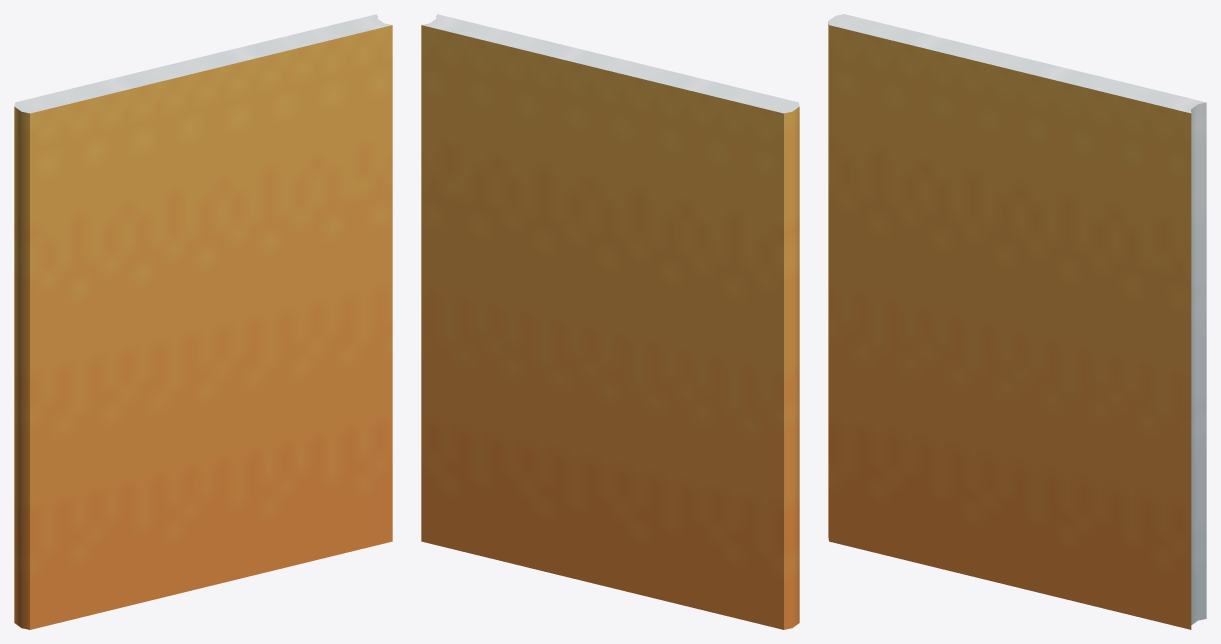
The model's file is comicbook-a.glb.
3 renders of one model, left to right at view 1: azimuth 30°, elevation 25°; view 2: azimuth 150°, elevation 25°; view 3: azimuth 330°, elevation 25°, orthographic.
Visible parts, largest first — view 1: comicbook_A; view 2: comicbook_A; view 3: comicbook_A.
Part boxes in pixels (<box>): comicbook_A: <box>14,14,392,629</box>; comicbook_A: <box>421,14,799,629</box>; comicbook_A: <box>828,14,1206,629</box>.
Bounding box in the file's own units: 0.5127 × 0.6894 × 0.0367.
1 material, 1 textured.
